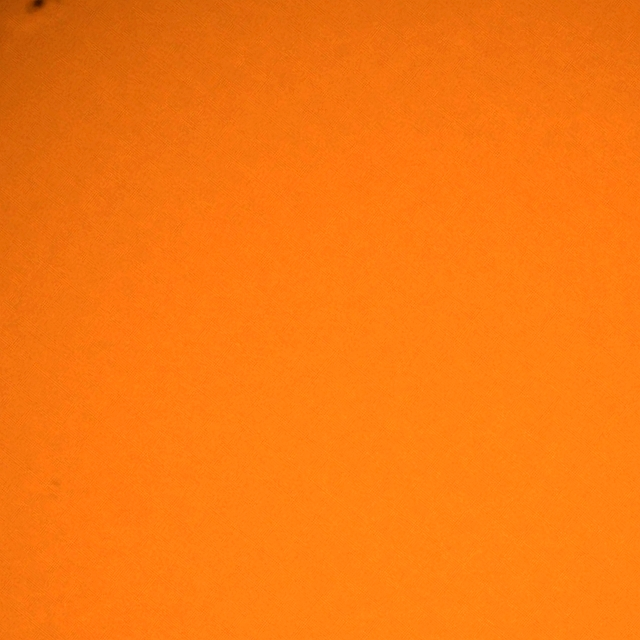sunspot: (27, 0, 48, 15)
